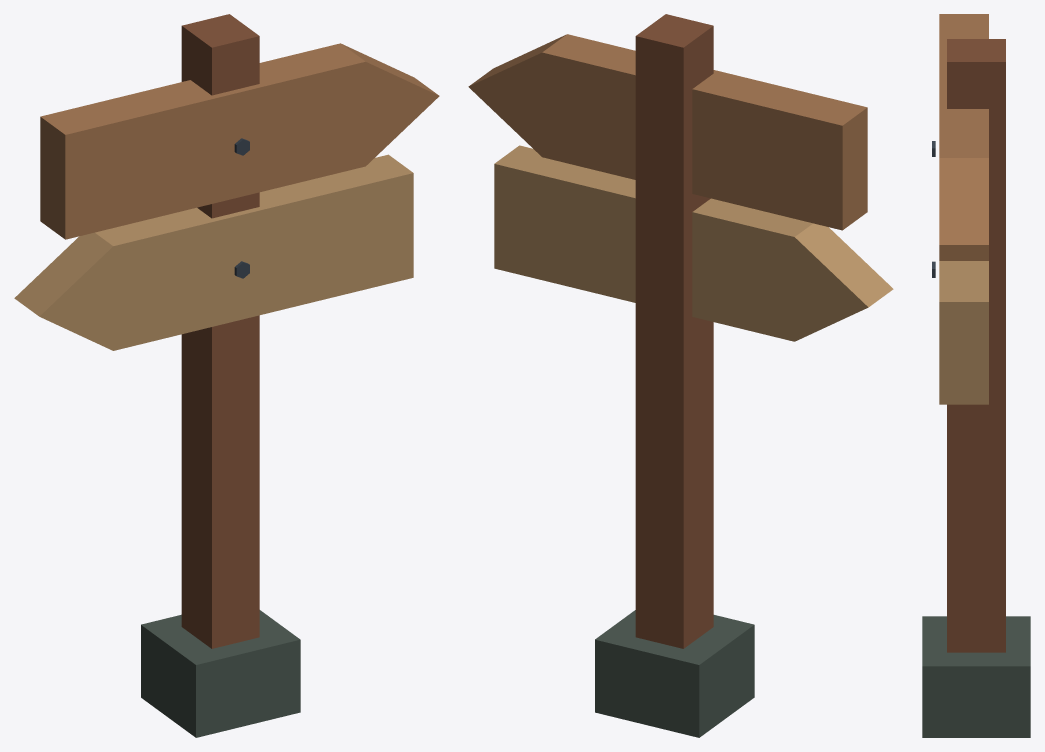
Rendered from signpost_region.glb.
3 renders of one model, left to right at view 1: azimuth 30°, elevation 25°; view 2: azimuth 150°, elevation 25°; view 3: azimuth 270°, elevation 25°, orthographic.
Parts seen in each view (by area): view 1: geometry; view 2: geometry; view 3: geometry.
Boxes of the visible parts, x1,y1,x2,y2 form: geometry: (14,14,439,737); geometry: (468,14,893,737); geometry: (922,14,1030,737).
Size of the model in its own units: 0.92 by 1.48 by 0.22.
